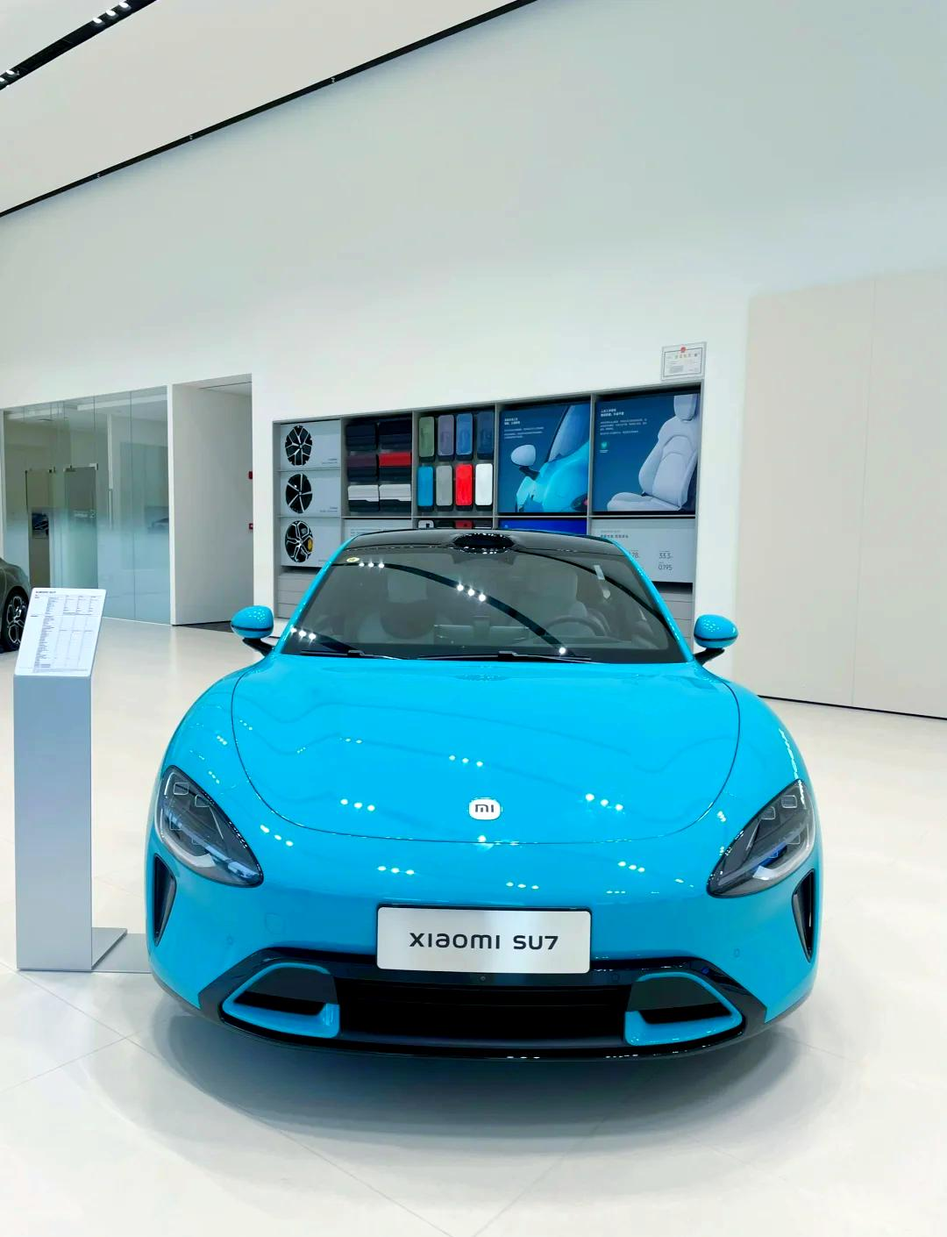su7: (152, 526, 820, 1076)
